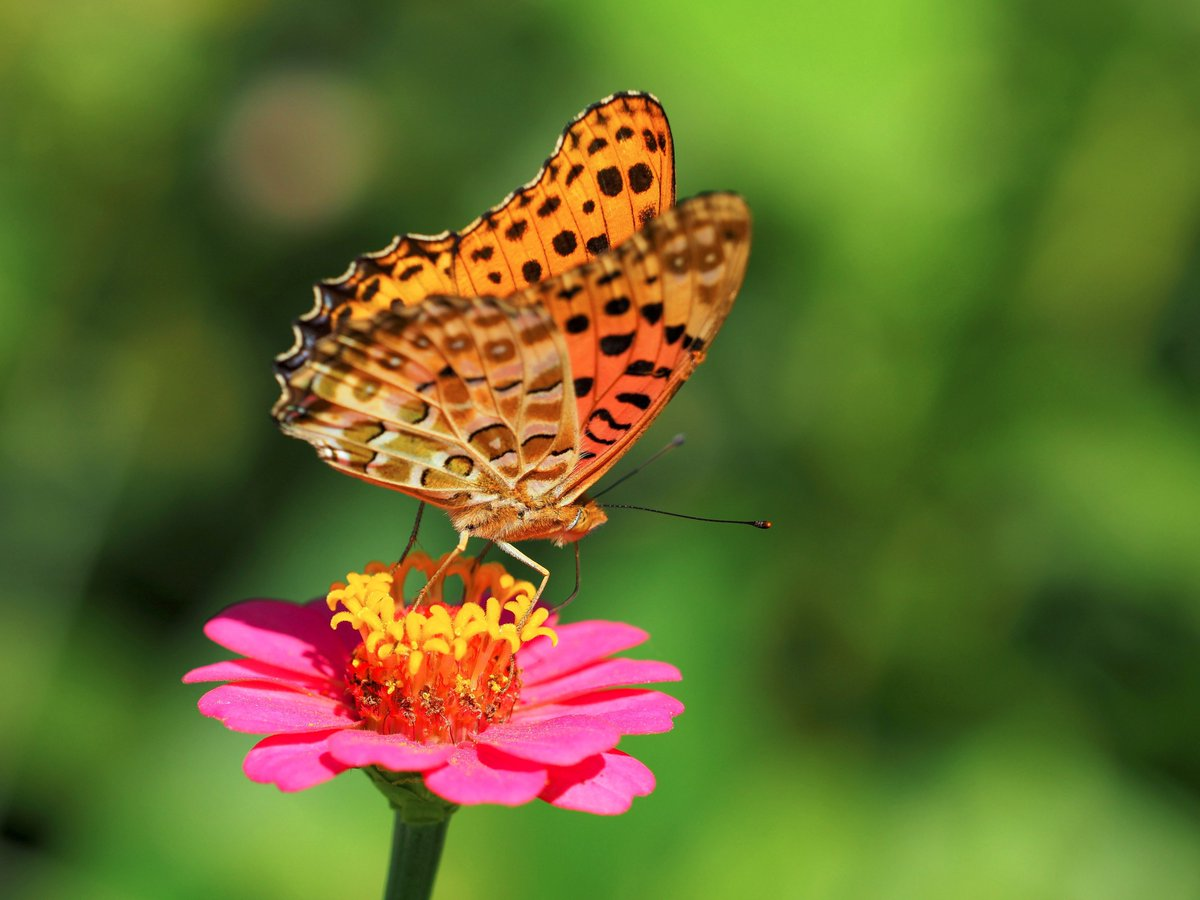Argyreus hyperbius: (267, 81, 772, 619)
butterfly: (265, 79, 770, 617)
